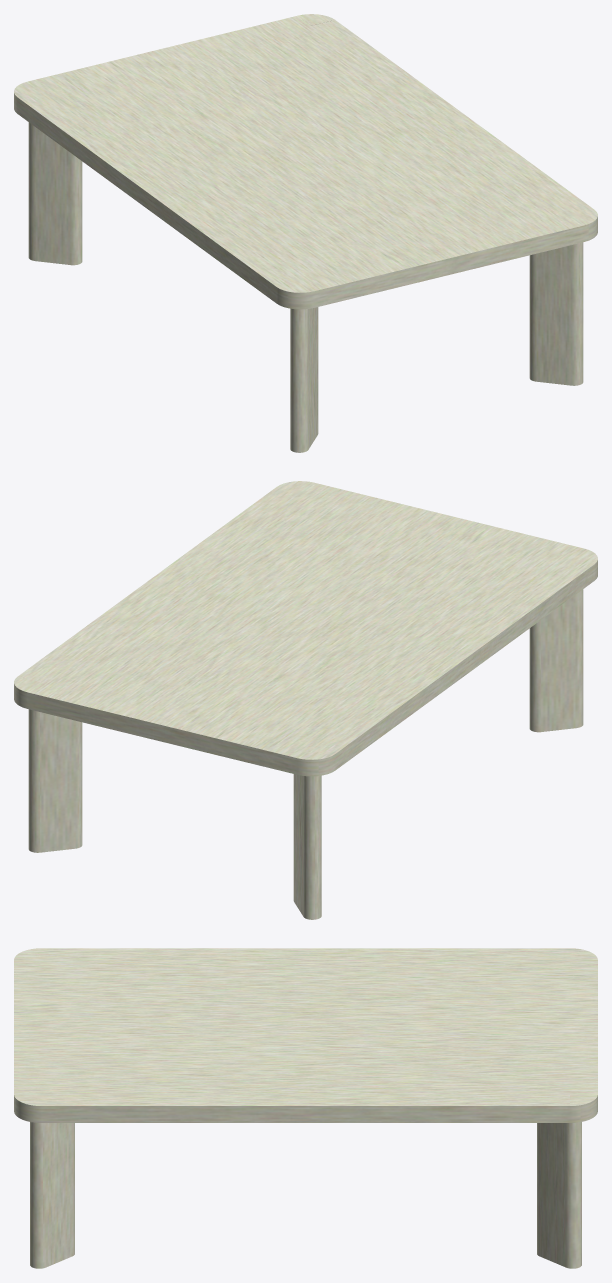
The model's file is kitchen_lowtable.dae.
3 renders of one model, top to bottom at view 1: azimuth 30°, elevation 25°; view 2: azimuth 150°, elevation 25°; view 3: azimuth 270°, elevation 25°, orthographic.
Visible parts, largest first — view 1: kitchen_lowtable; view 2: kitchen_lowtable; view 3: kitchen_lowtable.
Part boxes in pixels (x1,y1,x2,y2): kitchen_lowtable: [14, 14, 597, 452]; kitchen_lowtable: [14, 481, 597, 919]; kitchen_lowtable: [14, 948, 597, 1268].
Bounding box in the file's own units: 0.8 × 1.25 × 0.4.
1 material, 1 textured.
